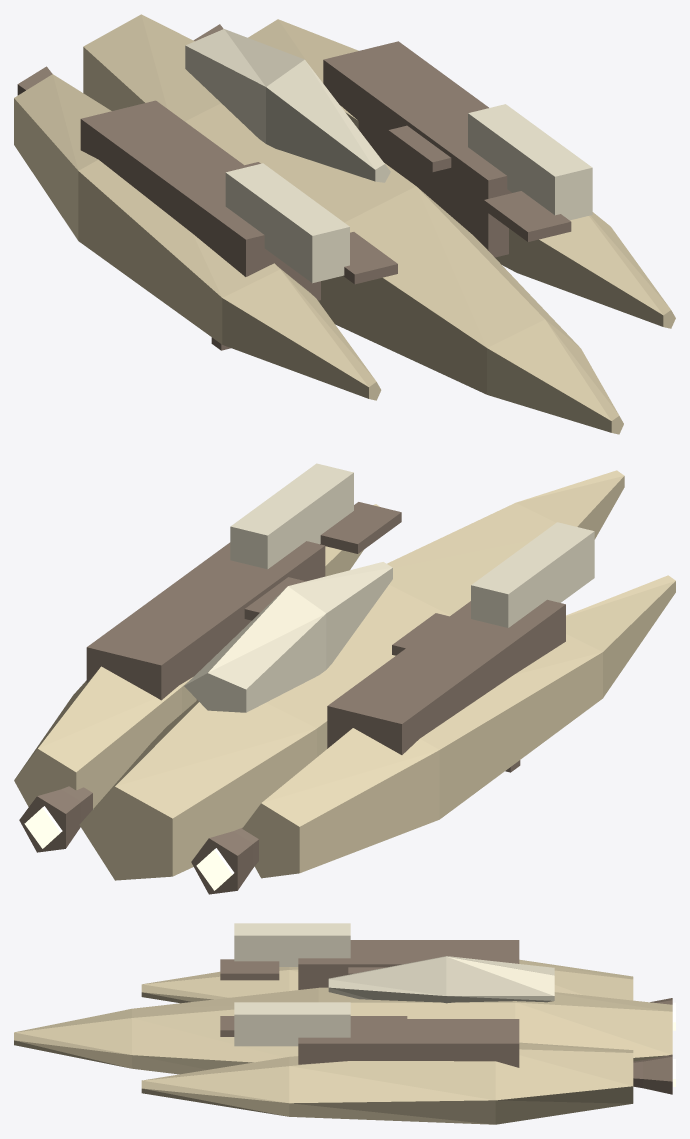
The picture shows the model from 3 angles, top to bottom: view 1: azimuth 30°, elevation 25°; view 2: azimuth 150°, elevation 25°; view 3: azimuth 270°, elevation 25°; orthographic projection. The views are drawn at different scales.
Bounding box in the file's own units: 10.33 × 5.01 × 22.76.
